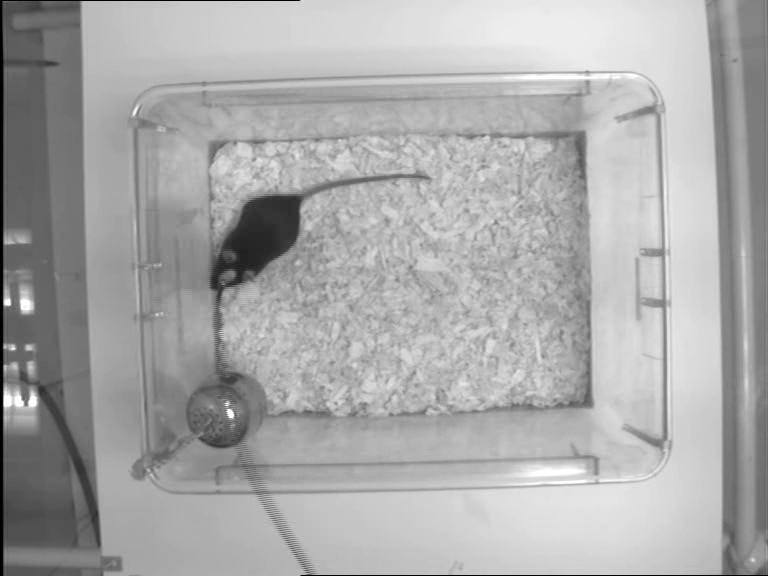mice: (208, 168, 433, 296)
